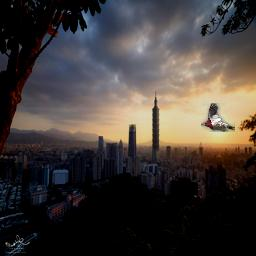Woodpecker: (201, 103, 235, 132)
